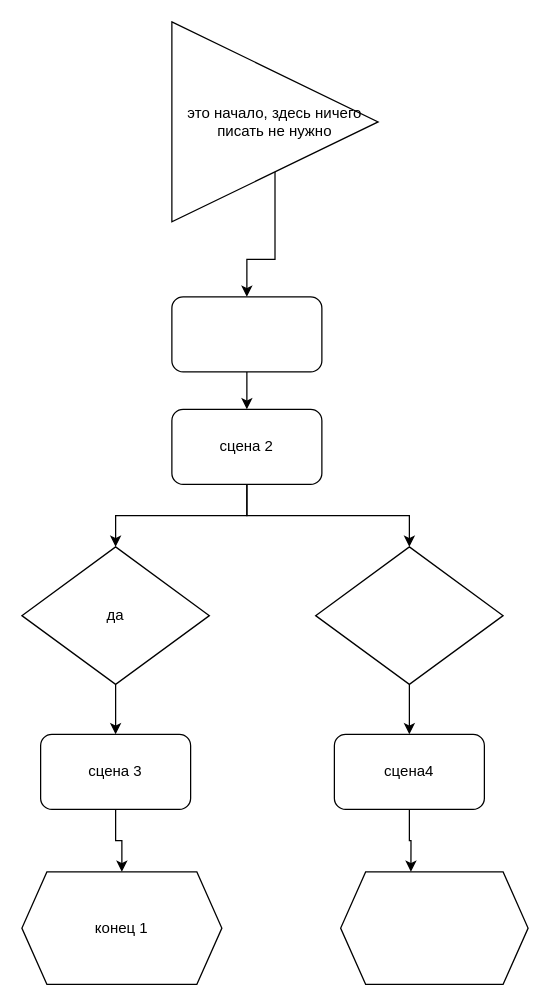
Image size: 550x1006. Some labels were removed from this diagram. The centre of each missing label's shape, as x and y in pixels:
"конец 2" belongs at (433,927).
"нет" belongs at (408,615).
"сцена 1" belongs at (246,334).
